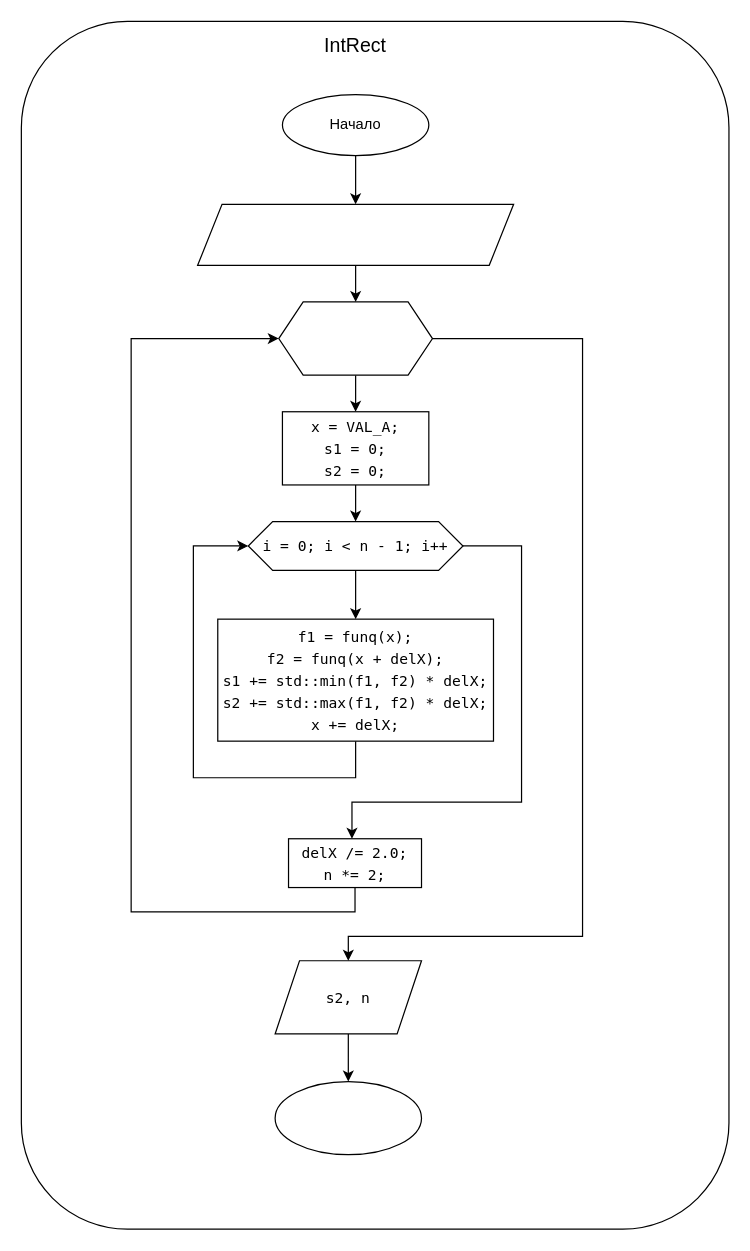
Some shapes in this 750 by 1251 pixel diagram are drawn without their labels. Here are the shapes that lost their labels. From the top down, the centre of each, then its label:
At pixel 355 234: "delX = ( VAL_B - VAL_A ) / 2.0 f1 , f2 , s1 , s2, x, n".
At pixel 355 338: "fabs ( s2 - s1 ) > eps".
At pixel 348 1117: "Конец".
